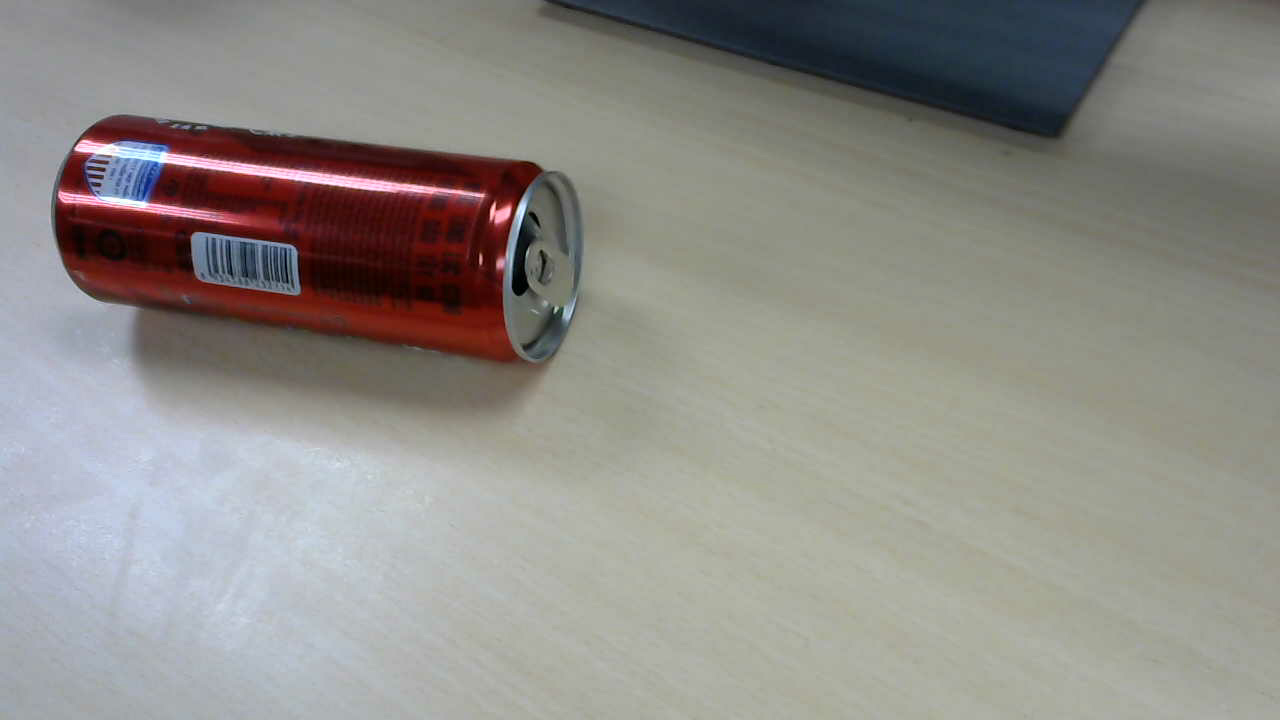Sting: (56, 117, 589, 369)
